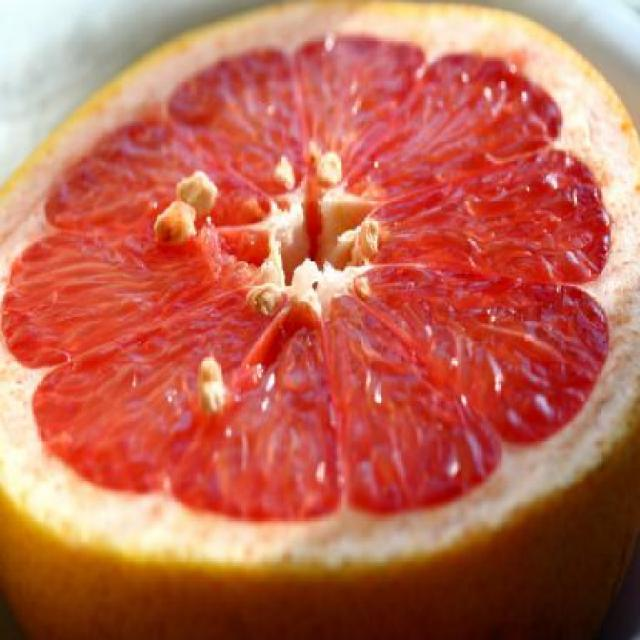Orange: (41, 33, 640, 613)
